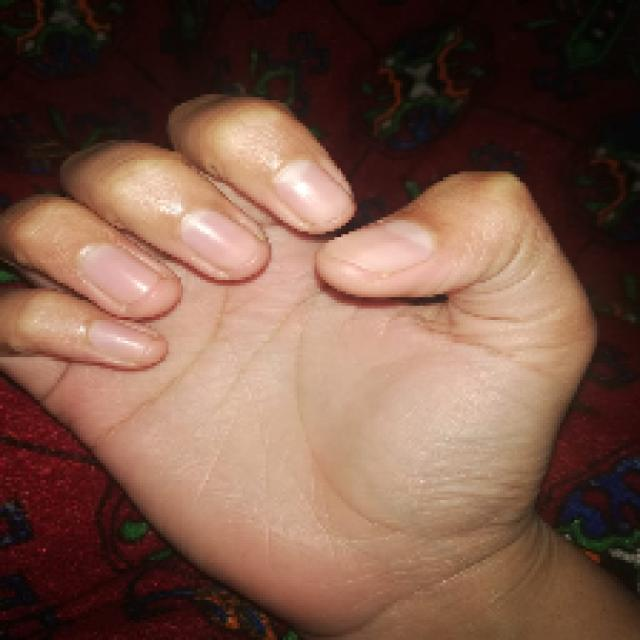Nail: (325, 220, 434, 273), (79, 244, 160, 305), (180, 210, 260, 270), (274, 160, 351, 221), (88, 319, 149, 361)
